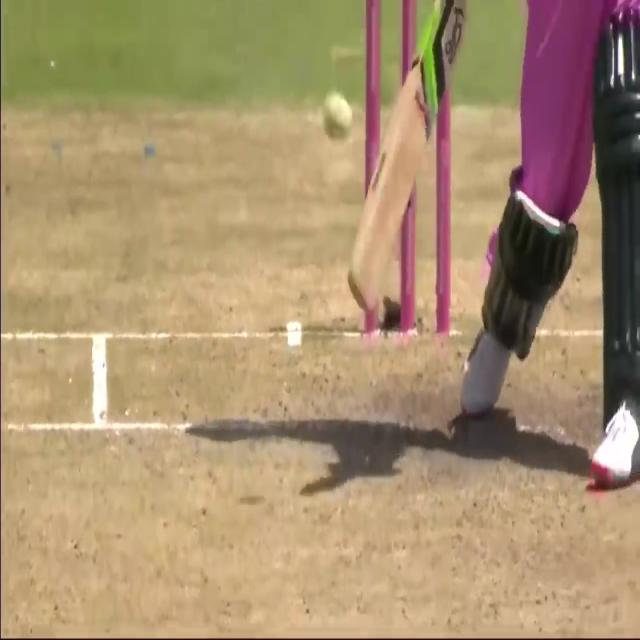Ball: (462, 4, 628, 544)
Batsman: (310, 76, 355, 152)
